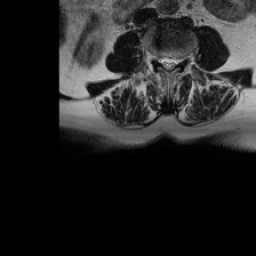CCS_stenosis: (166, 52, 171, 74)
LFS_stenosis: (176, 52, 184, 67)
LLS_normal: (172, 53, 177, 70)
RFS_stenosis: (154, 51, 161, 69)
RLS_stenosis: (160, 53, 166, 72)
